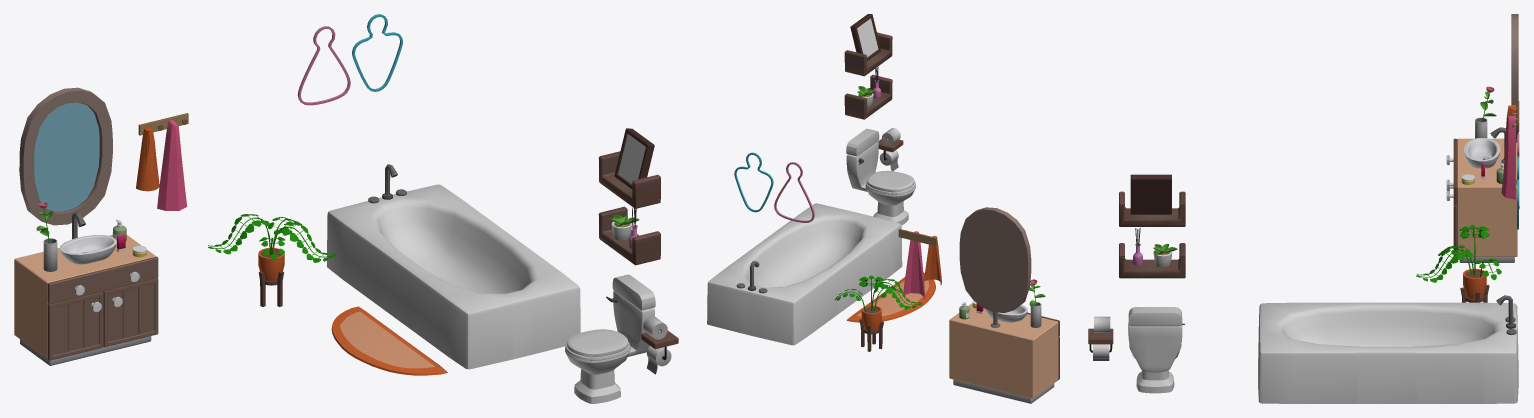
Rendered from Washroom.fbx.
3 views of the same model, side by side, from view 1: azimuth 30°, elevation 25°; view 2: azimuth 150°, elevation 25°; view 3: azimuth 270°, elevation 25° (orthographic). The views are drawn at different scales.
Visible parts, largest first — view 1: Washroom; view 2: Washroom; view 3: Washroom.
Boxes of the visible parts, left/top/right/bottom form: Washroom: left=14, top=14, right=678, bottom=403; Washroom: left=707, top=14, right=1059, bottom=403; Washroom: left=1088, top=14, right=1519, bottom=403.
Bounding box in the file's own units: 541 × 304 × 518.
